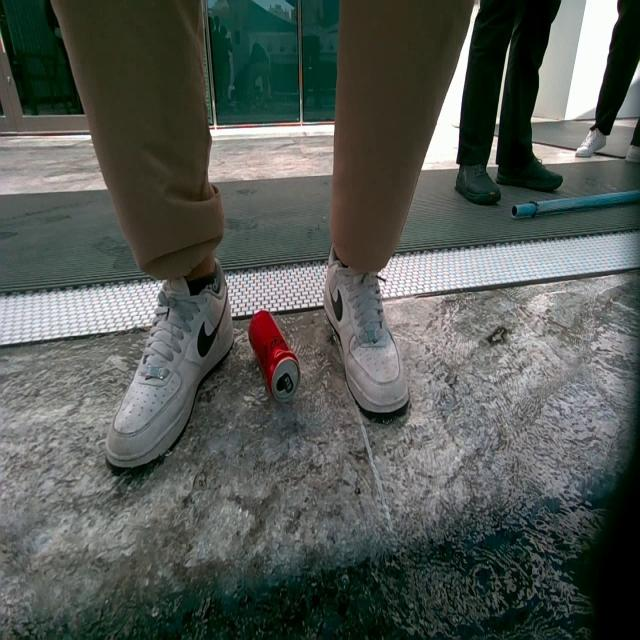Cans: (251, 312, 304, 406)
